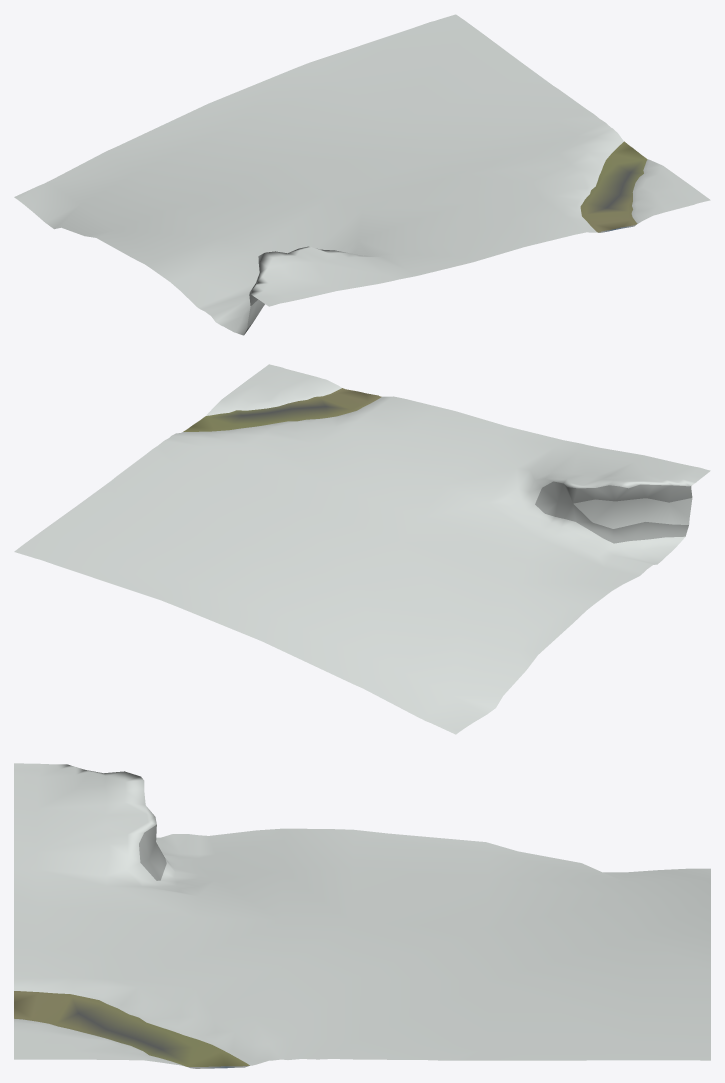
3 views of the same model, one above another, from view 1: azimuth 30°, elevation 25°; view 2: azimuth 150°, elevation 25°; view 3: azimuth 270°, elevation 25° (orthographic). The views are drawn at different scales.
Visible parts, largest first — view 1: G:\FFXIV-MapTools\exports\r2f1\bg\ex1\01_roc_r2\fld\r2f1\bgp (×2); view 2: G:\FFXIV-MapTools\exports\r2f1\bg\ex1\01_roc_r2\fld\r2f1\bgp (×4); view 3: G:\FFXIV-MapTools\exports\r2f1\bg\ex1\01_roc_r2\fld\r2f1\bgp (×3).
Part boxes in pixels (x1=…): G:\FFXIV-MapTools\exports\r2f1\bg\ex1\01_roc_r2\fld\r2f1\bgp (×2): x1=14, y1=14, x2=710, y2=335; G:\FFXIV-MapTools\exports\r2f1\bg\ex1\01_roc_r2\fld\r2f1\bgp (×4): x1=14, y1=364, x2=710, y2=734; G:\FFXIV-MapTools\exports\r2f1\bg\ex1\01_roc_r2\fld\r2f1\bgp (×3): x1=14, y1=763, x2=710, y2=1066.
Bounding box in the file's own units: 128 × 24.5 × 128.
